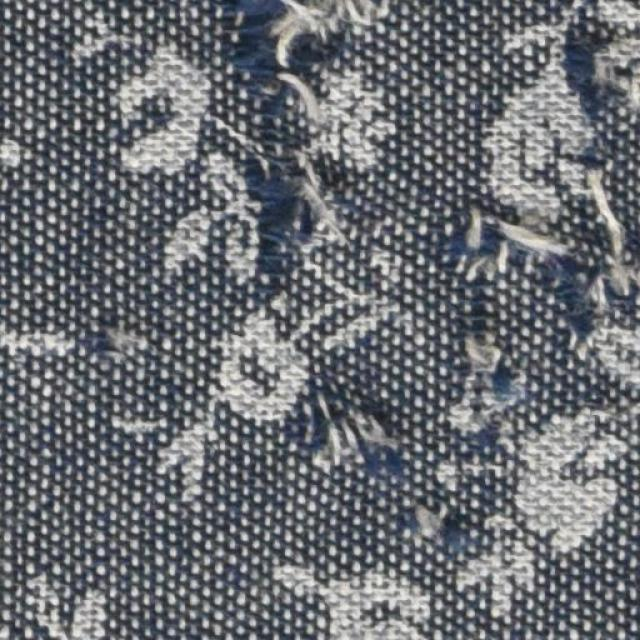Snag: (205, 1, 393, 308), (448, 160, 626, 456), (290, 390, 393, 480), (556, 19, 635, 125), (420, 508, 480, 561)
